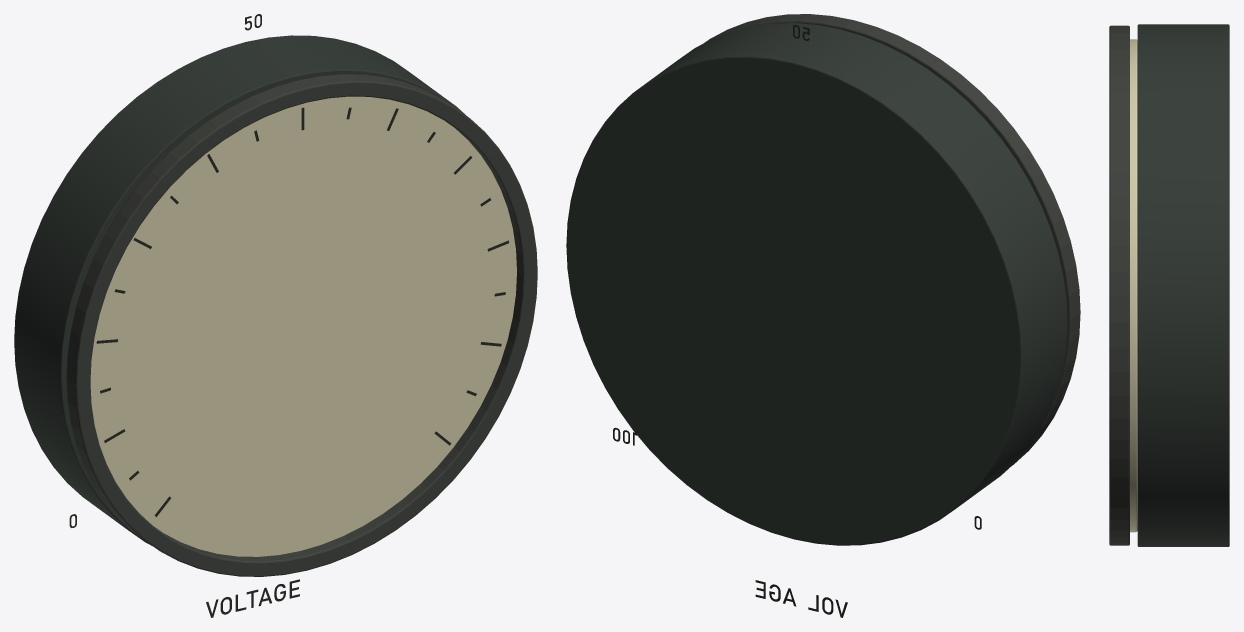
The model's file is VOLTAGE_Housing.fbx.
3 renders of one model, left to right at view 1: azimuth 30°, elevation 25°; view 2: azimuth 150°, elevation 25°; view 3: azimuth 270°, elevation 25°, orthographic. The views are drawn at different scales.
Visible parts, largest first — view 1: VOLTAGE_Housing_EXPORT; view 2: VOLTAGE_Housing_EXPORT; view 3: VOLTAGE_Housing_EXPORT.
Part boxes in pixels (<box>): VOLTAGE_Housing_EXPORT: <box>14,14,537,617</box>; VOLTAGE_Housing_EXPORT: <box>566,14,1080,617</box>; VOLTAGE_Housing_EXPORT: <box>1109,24,1229,546</box>.
Bounding box in the file's own units: 0.352 × 0.4291 × 0.081.
